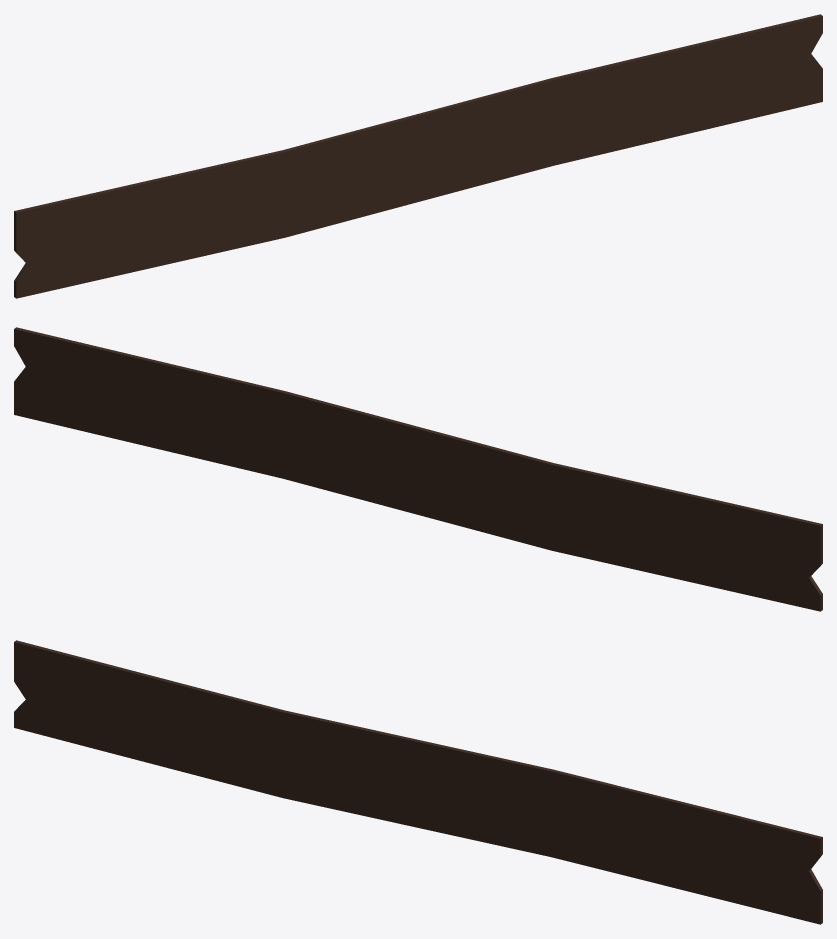
The model's file is SM_plank.fbx.
The picture shows the model from 3 angles, top to bottom: view 1: azimuth 30°, elevation 25°; view 2: azimuth 150°, elevation 25°; view 3: azimuth 330°, elevation 25°; orthographic projection.
Visible parts, largest first — view 1: Box087; view 2: Box087; view 3: Box087.
Part boxes in pixels (box(x1,y1,x2,y2)): Box087: box(14, 14, 822, 298); Box087: box(14, 327, 822, 611); Box087: box(14, 640, 822, 924).
Size of the model in its own units: 409 by 44.72 by 2.12.
